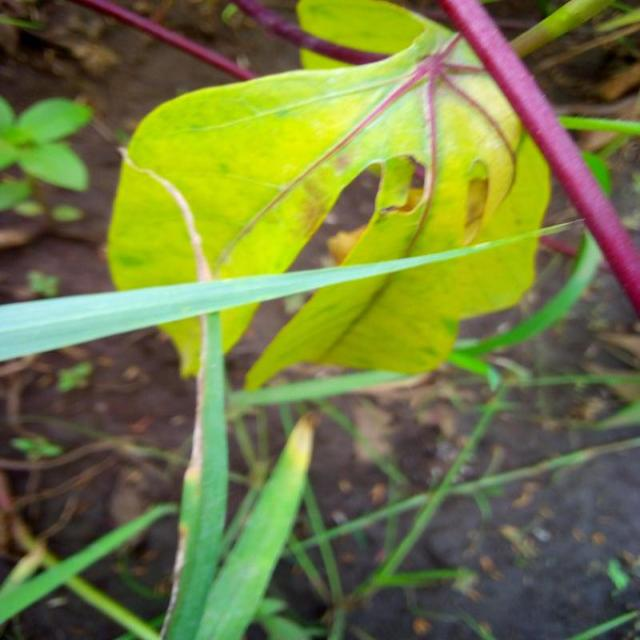cassava leaf: (103, 0, 554, 390)
